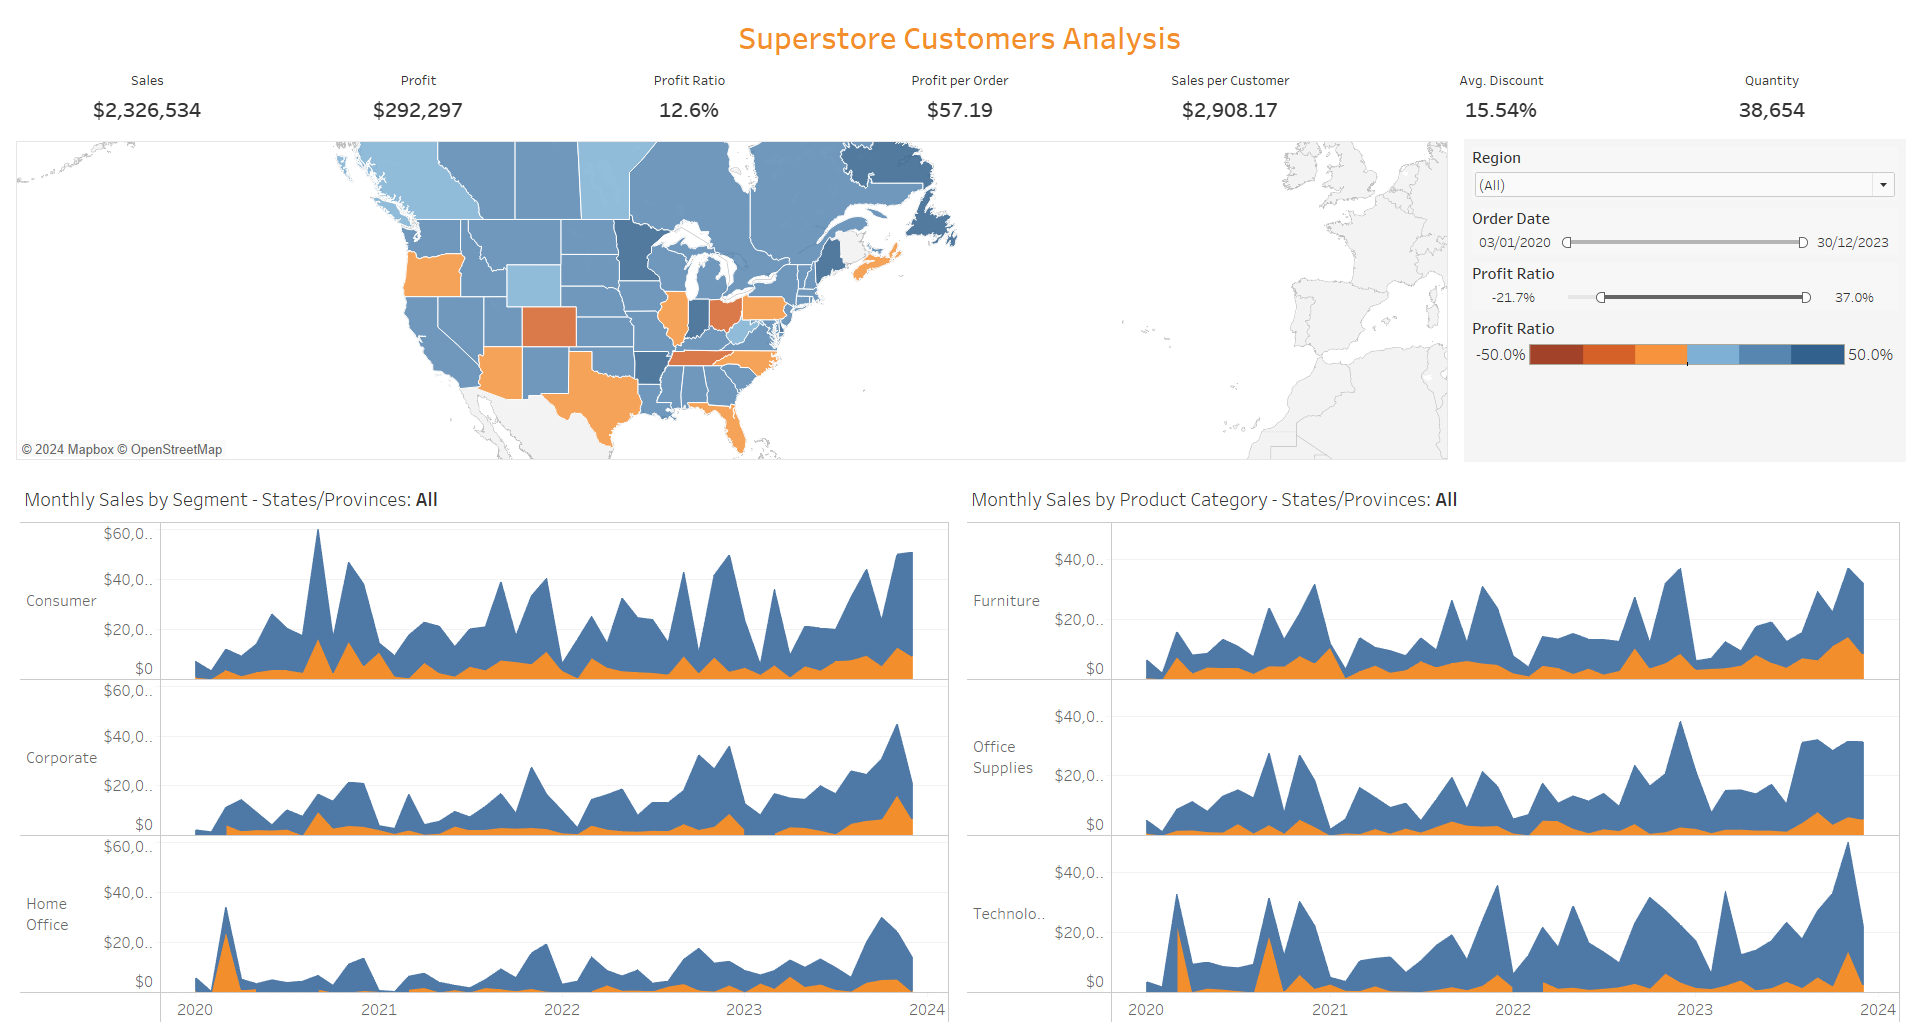

This screenshot's page, from the dashboard's own definition file:
{"tool":"tableau","page":{"name":"Overview","canvas":[1000,1000],"units":"permille","ordinal":3},"visuals":[{"type":"worksheet","title":"Total Sales","mark":"Automatic","box":[4.2,8.2,991.6,146.9]},{"type":"worksheet","title":"Sale Map","mark":"Multipolygon","box":[4.2,155.1,716.4,396]},{"type":"filter","title":"Sale Map","param":"[federated.10nnk8d1vgmw8q17yu76u06pnbcj].[none:Region:nk]","box":[727.2,168.1,261.9,71.7]},{"type":"filter","title":"Sale Map","param":"[federated.10nnk8d1vgmw8q17yu76u06pnbcj].[none:Order Date:qk]","box":[727.2,239.7,261.9,64.6]},{"type":"filter","title":"Sale Map","param":"[federated.10nnk8d1vgmw8q17yu76u06pnbcj].[usr:Calculation_9921103144103743:qk]","box":[727.2,304.4,261.9,64.6]},{"type":"legend","title":"Sale Map","param":"[federated.10nnk8d1vgmw8q17yu76u06pnbcj].[usr:Calculation_9921103144103743:qk]","box":[727.2,369,261.9,85.8]},{"type":"worksheet","title":"Sales by Segment","mark":"Area","rows":["Segment","Sales"],"cols":["Order Date"],"box":[6.6,555.8,492.2,431.2]},{"type":"worksheet","title":"Sales by Product","mark":"Area","rows":["Category","Sales"],"cols":["Order Date"],"box":[498.8,555.8,494.6,431.2]}]}

Visuals, with their boxes on the dashboard's canvas, which has no fixed pixel size, in thousandths of its width and height (x1, y1, x2, y2). These are canvas units, not pixel positions in the 1910x1032 screenshot, which may show the page scaled, cropped or inside an application window:
"Total Sales" worksheet: [4, 8, 996, 155]
"Sale Map" worksheet (Multipolygon marks): [4, 155, 721, 551]
"Sale Map" filter: [727, 168, 989, 240]
"Sale Map" filter: [727, 240, 989, 304]
"Sale Map" filter: [727, 304, 989, 369]
"Sale Map" legend: [727, 369, 989, 455]
"Sales by Segment" worksheet (Area marks): [7, 556, 499, 987]
"Sales by Product" worksheet (Area marks): [499, 556, 993, 987]
